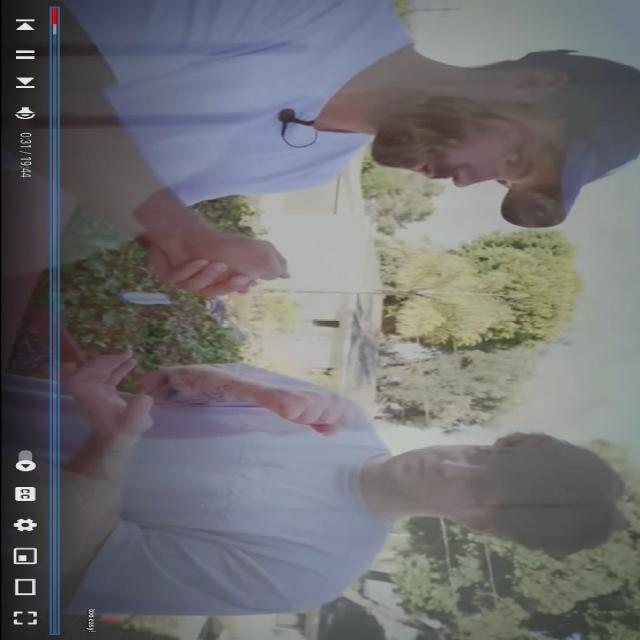Rock: (152, 232, 292, 282), (259, 391, 355, 436)
